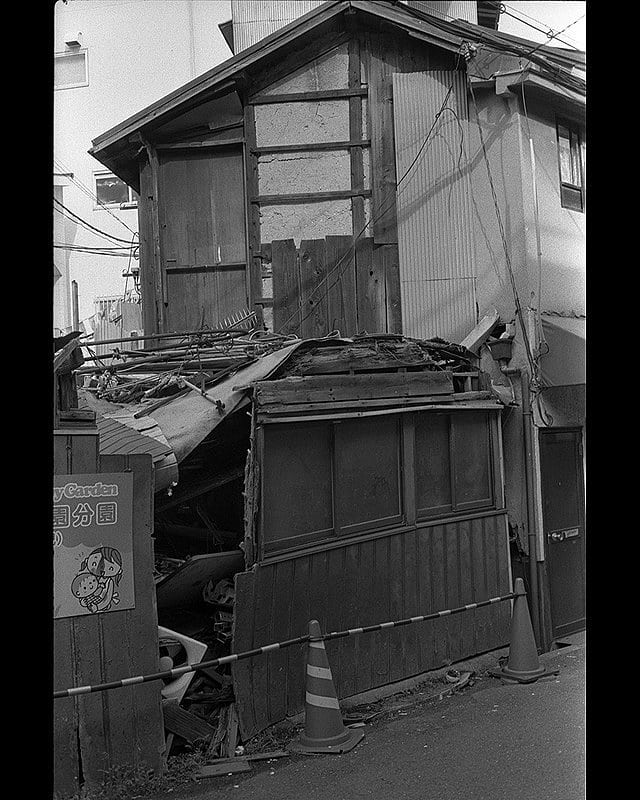building: (1, 344, 538, 800), (149, 1, 640, 324)
traffic cone: (267, 610, 370, 764), (481, 575, 565, 689)
